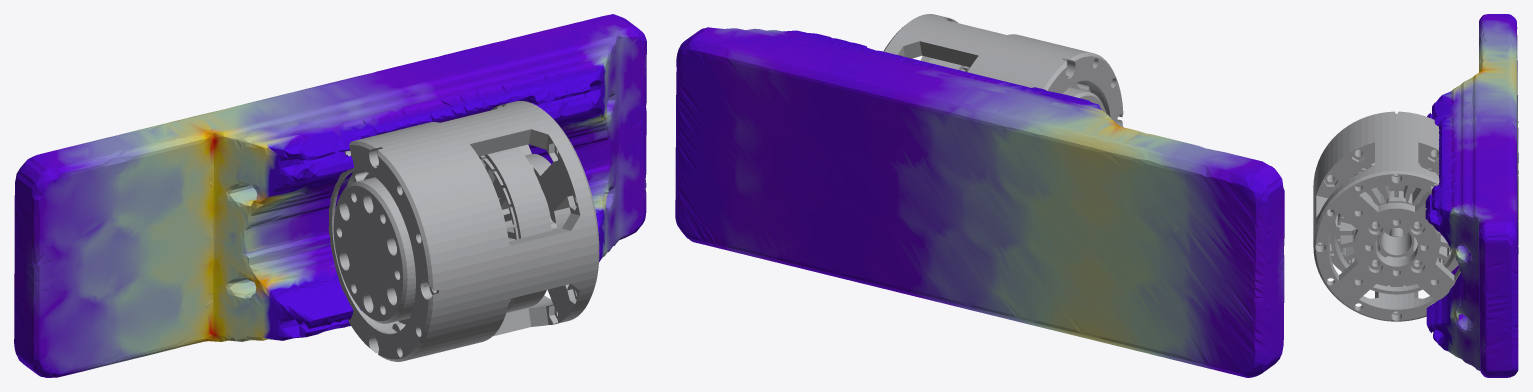
File: leg_right_ankle_roll_opt.glb
3 views of the same model, side by side, from view 1: azimuth 30°, elevation 25°; view 2: azimuth 150°, elevation 25°; view 3: azimuth 270°, elevation 25° (orthographic). The views are drawn at different scales.
Visible parts, largest first — view 1: leg_right_ankle_roll_visual.stl; view 2: leg_right_ankle_roll_visual.stl; view 3: leg_right_ankle_roll_visual.stl.
Boxes of the visible parts, x1,y1,x2,y2 form: leg_right_ankle_roll_visual.stl: [14, 14, 646, 377]; leg_right_ankle_roll_visual.stl: [675, 14, 1284, 377]; leg_right_ankle_roll_visual.stl: [1313, 14, 1518, 377].
Bounding box in the file's own units: 0.2201 × 0.0723 × 0.0863.
